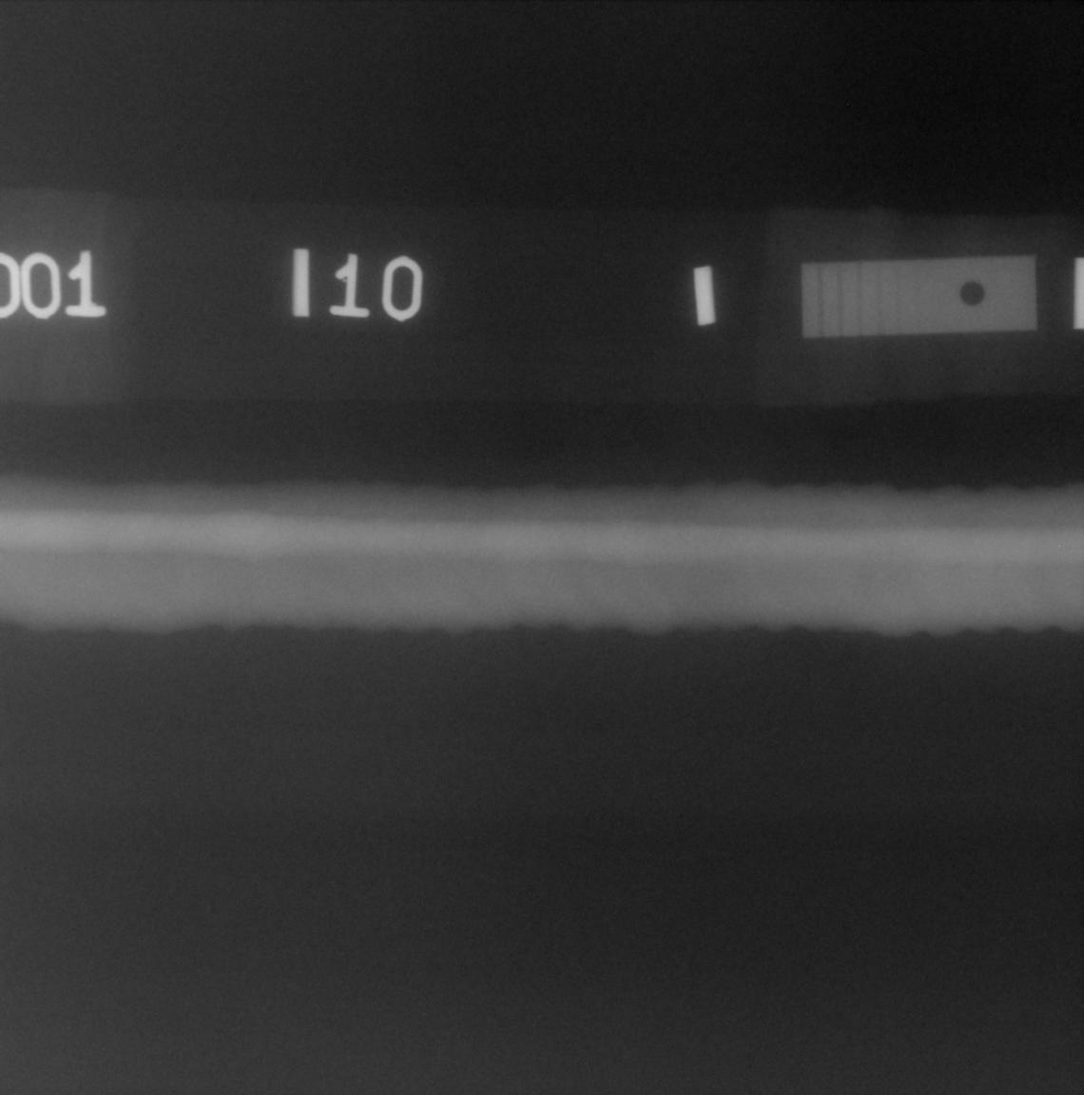Reference Standard 1: (801, 255, 1037, 338)
